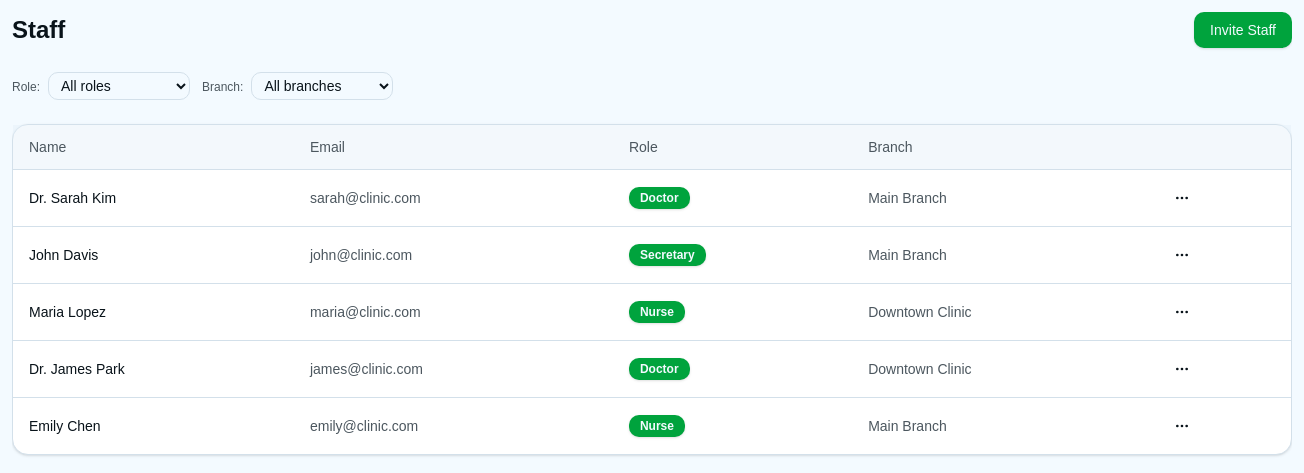
it: StaffPage › filtering by role filters the list
Expected: the text "Dr. Sarah Kim" is shown, x1=13 y1=170 x2=294 y2=226
Select "Secretary" in the dropdown named "filter by role" at (119, 86), box x1=48 y1=72 x2=190 y2=100
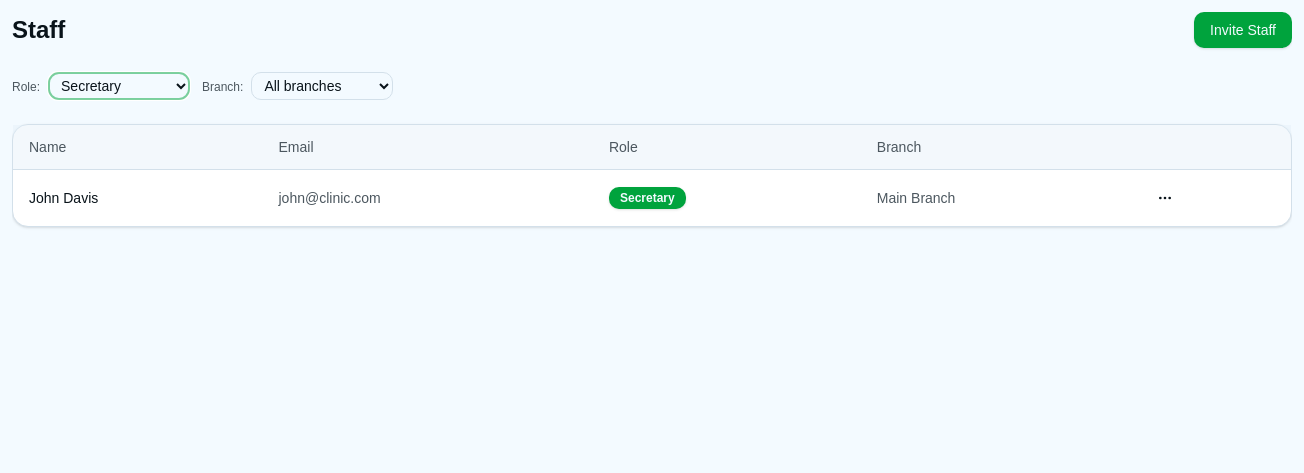
Expected: the text "John Davis" is shown, x1=13 y1=170 x2=262 y2=226
Expected: the text "Dr. Sarah Kim" is gone
